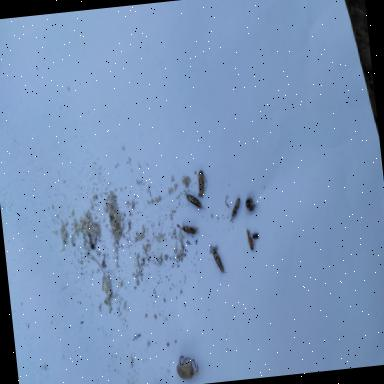pbw: (212, 248, 228, 274), (186, 191, 205, 211), (196, 170, 208, 198), (228, 197, 242, 221), (178, 220, 198, 235), (247, 228, 256, 252)
